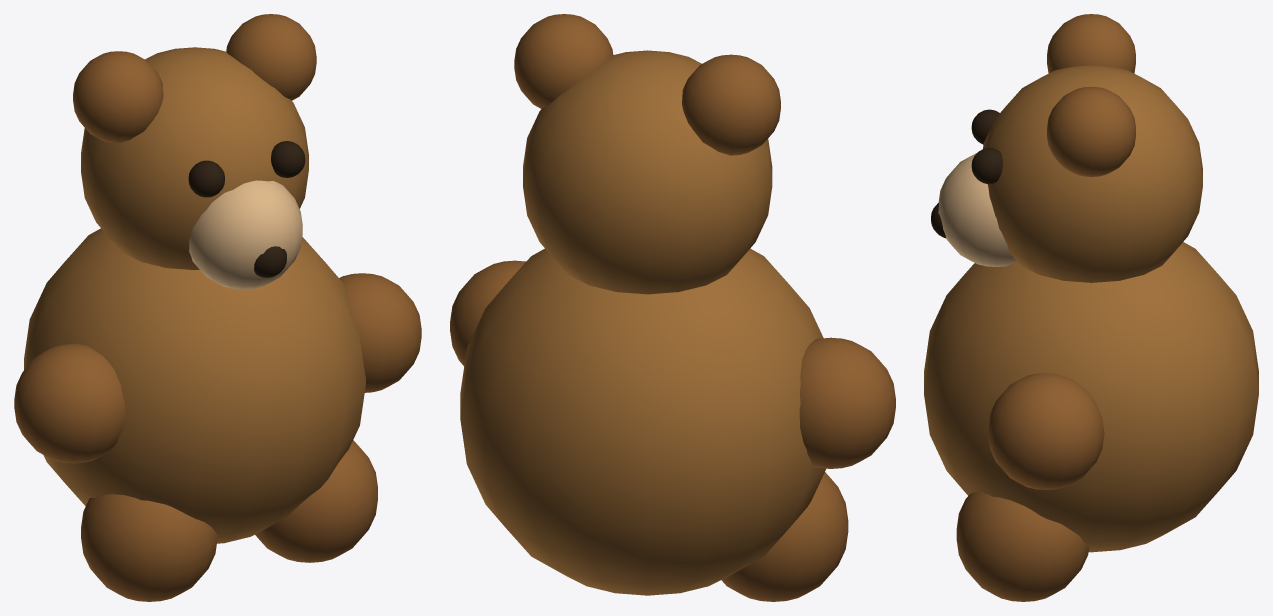
The model's file is item_toy.fbx.
3 renders of one model, left to right at view 1: azimuth 30°, elevation 25°; view 2: azimuth 150°, elevation 25°; view 3: azimuth 270°, elevation 25°, orthographic. The views are drawn at different scales.
Parts seen in each view (by area): view 1: M__item_toy; view 2: M__item_toy; view 3: M__item_toy.
Part boxes in pixels (x1,y1,x2,y2): M__item_toy: (14, 14, 421, 601); M__item_toy: (450, 14, 895, 601); M__item_toy: (924, 14, 1258, 601).
Size of the model in its own units: 0.196 by 0.245 by 0.1477.
